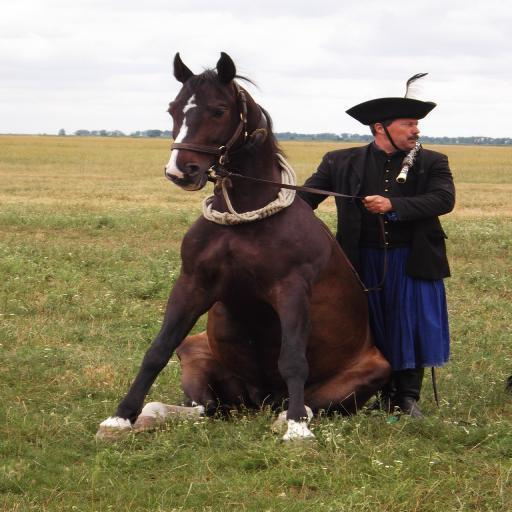horse: (88, 50, 396, 450)
